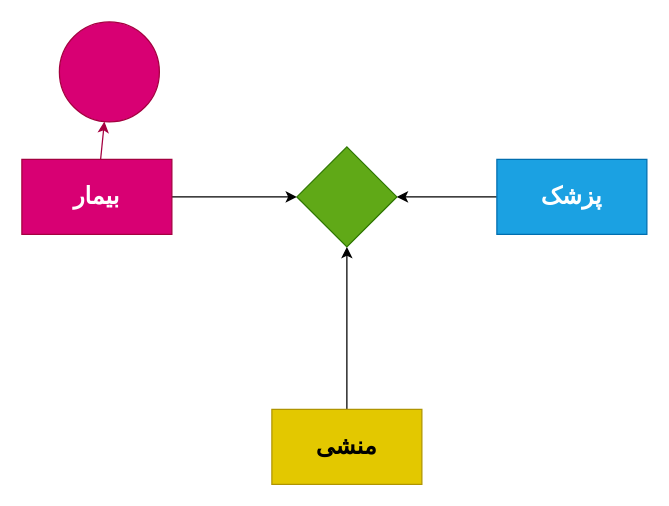
The diagram is 669 pixels wide and 506 high, and some of its shapes have lost their labels. The shapes that lost their labels are listed below. From the top down, each one's centre as x and y in pixels, then its label:
At (108,71): "نام".
At (346,196): "ویزیت".
